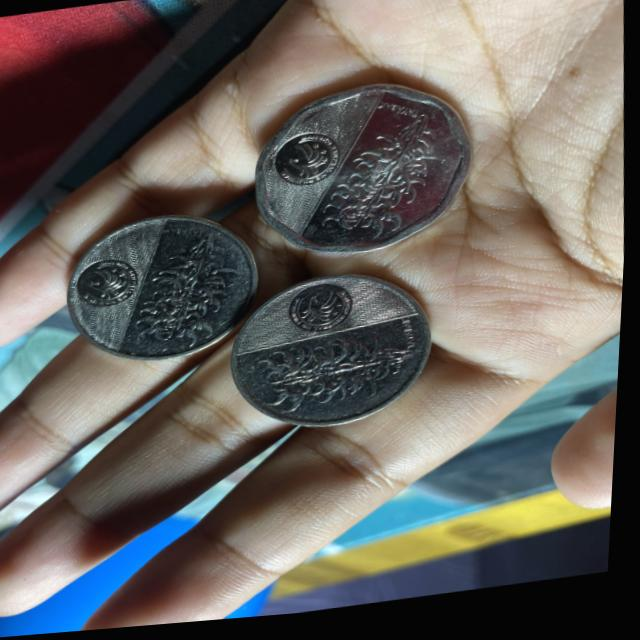5_New_Back: (319, 114, 457, 251), (262, 335, 410, 422), (143, 236, 241, 355)
